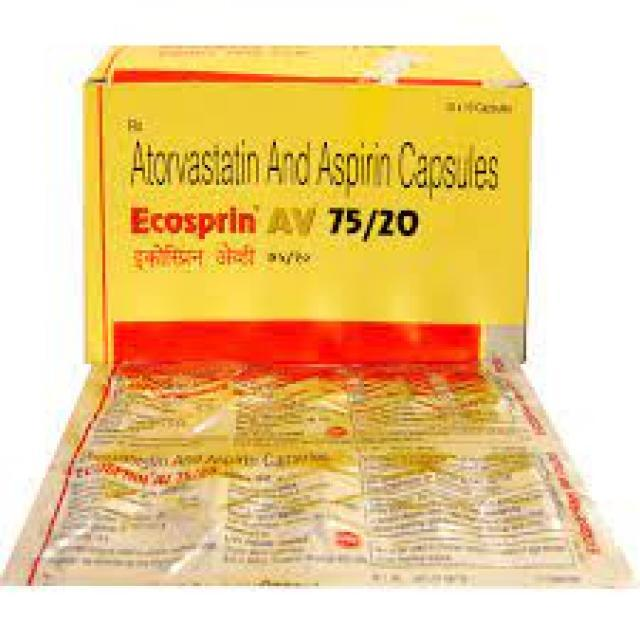authentic: (0, 368, 640, 618), (72, 30, 544, 367)
